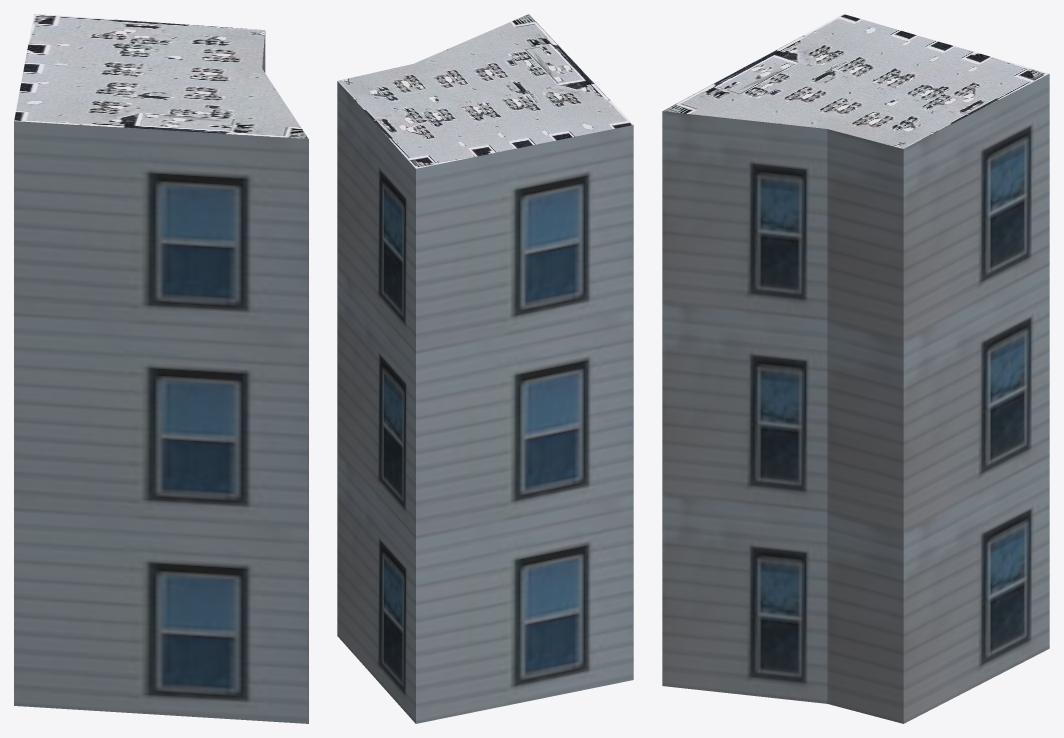
File: ResTex__3695.fbx
3 renders of one model, left to right at view 1: azimuth 30°, elevation 25°; view 2: azimuth 150°, elevation 25°; view 3: azimuth 270°, elevation 25°, orthographic. The views are drawn at different scales.
Visible parts, largest first — view 1: CityEngineMaterial_18_m, CityEngineMaterial_m; view 2: CityEngineMaterial_18_m, CityEngineMaterial_m; view 3: CityEngineMaterial_18_m, CityEngineMaterial_m.
Part boxes in pixels (<box>): CityEngineMaterial_18_m: <box>14,31,308,723</box>; CityEngineMaterial_m: <box>14,14,308,139</box>; CityEngineMaterial_18_m: <box>337,81,633,723</box>; CityEngineMaterial_m: <box>338,14,633,168</box>; CityEngineMaterial_18_m: <box>662,74,1049,723</box>; CityEngineMaterial_m: <box>662,14,1049,148</box>.
Bounding box in the file's own units: 4.54 × 9 × 5.5.
2 materials, 2 textured.
